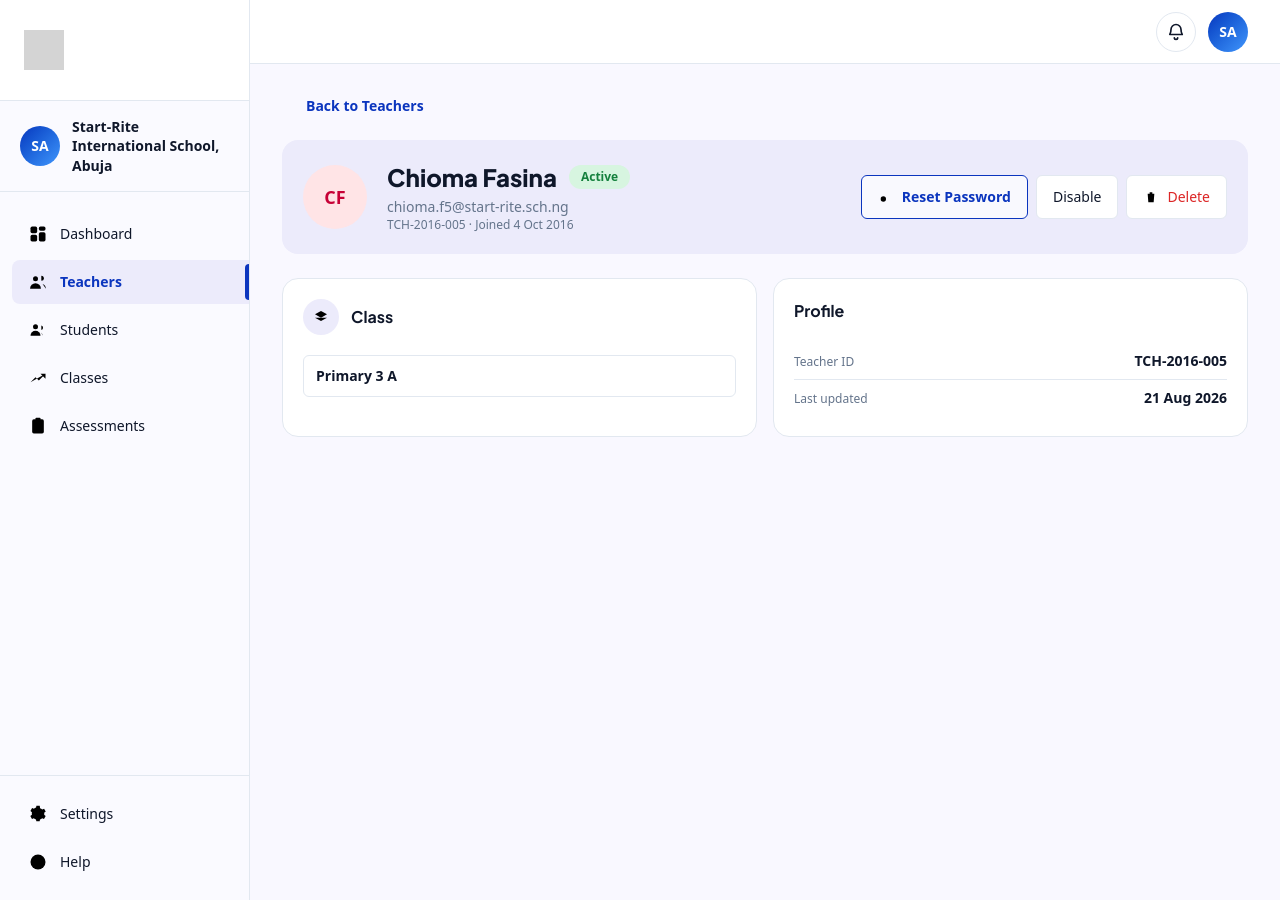
Test: TeacherDetailPage › rejects a wrong delete confirmation code
Click the button "Delete".
click(1177, 197)  # box [1126,175,1227,219]
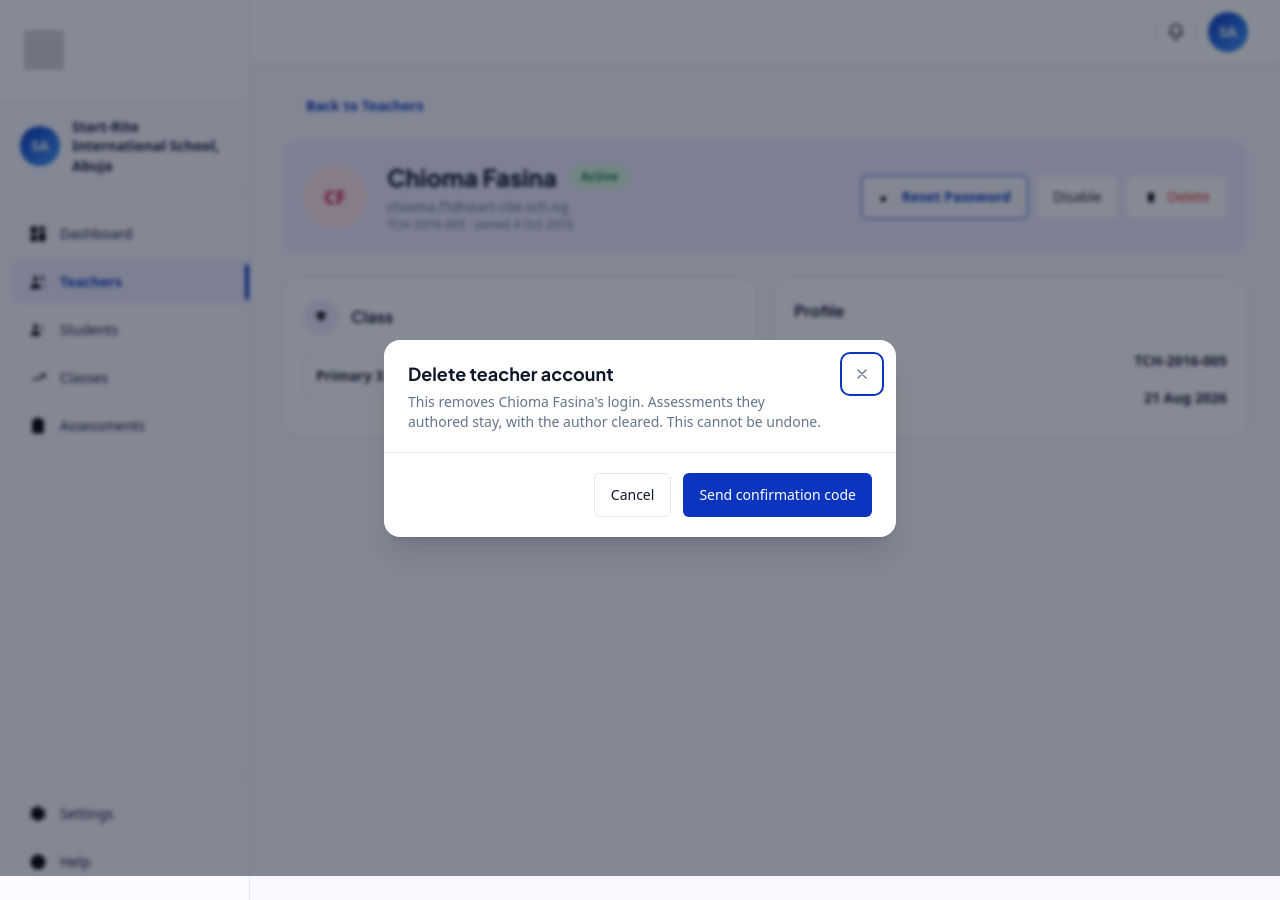
Click the button "Send confirmation code".
click(778, 494)  # box [683,472,872,516]
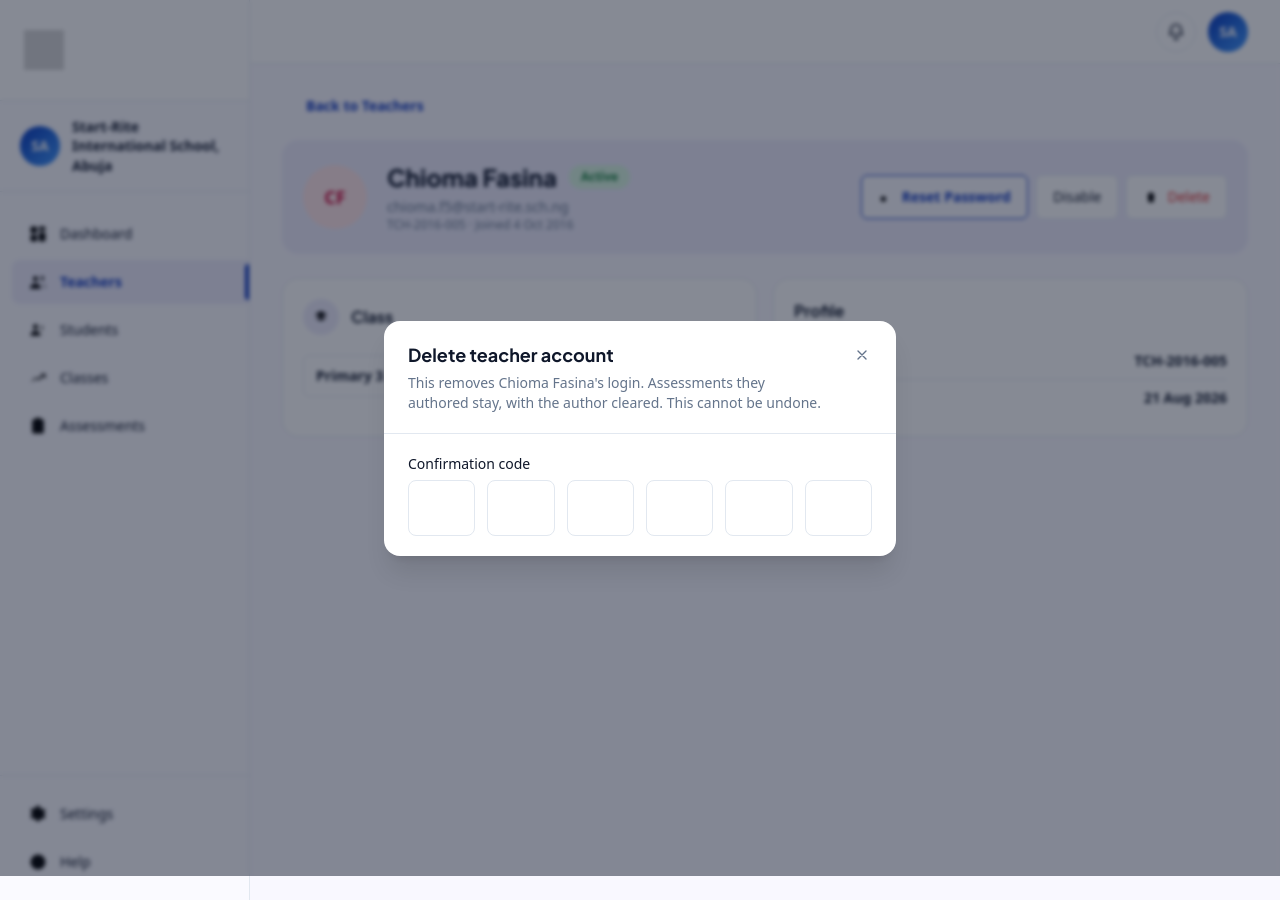
Type "000000" into the field named "Digit 1 of 6".
click(442, 508); type("000000")  # box [408,480,475,536]
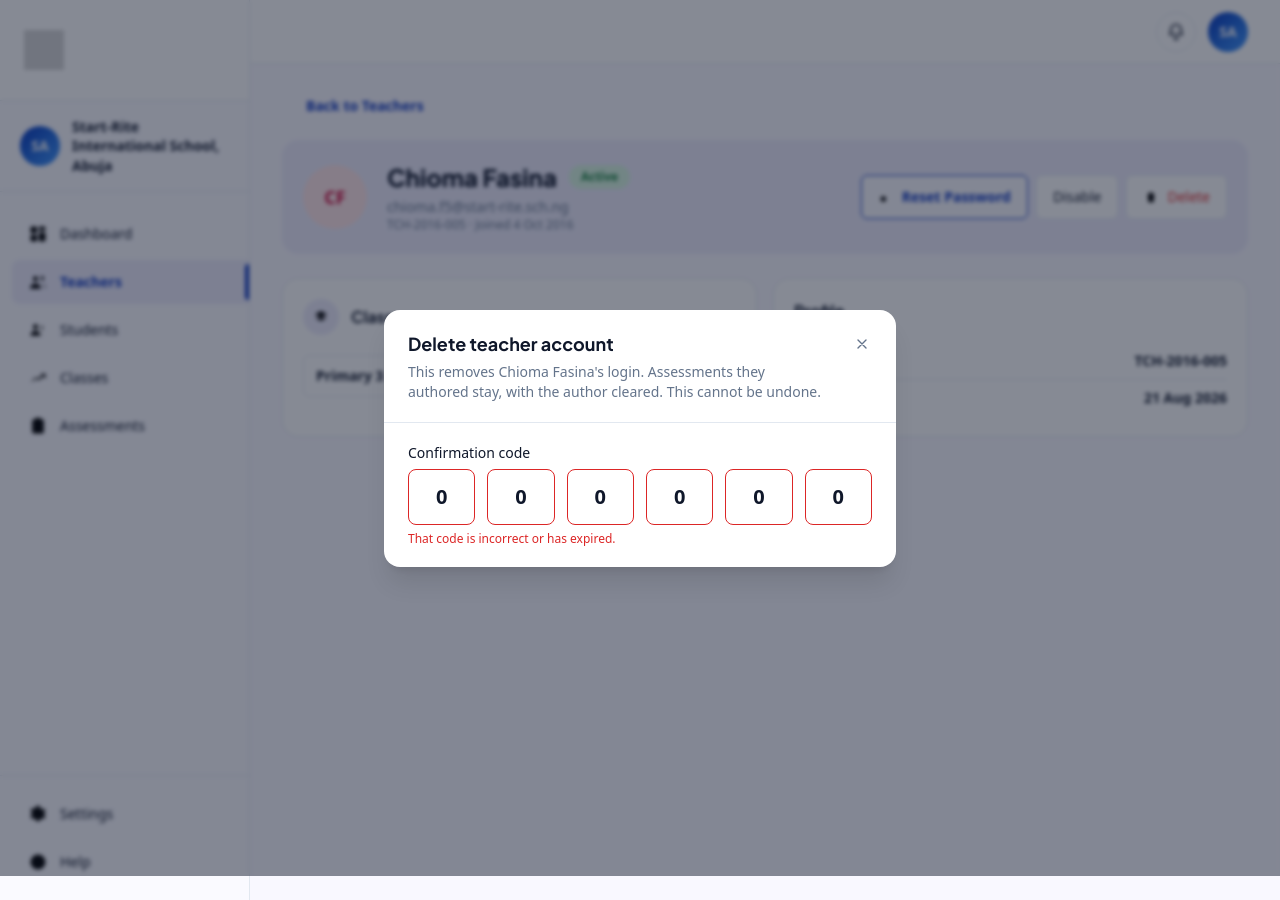
Expected: the text "That code is incorrect or has expired." is shown, [408,530,616,546]
